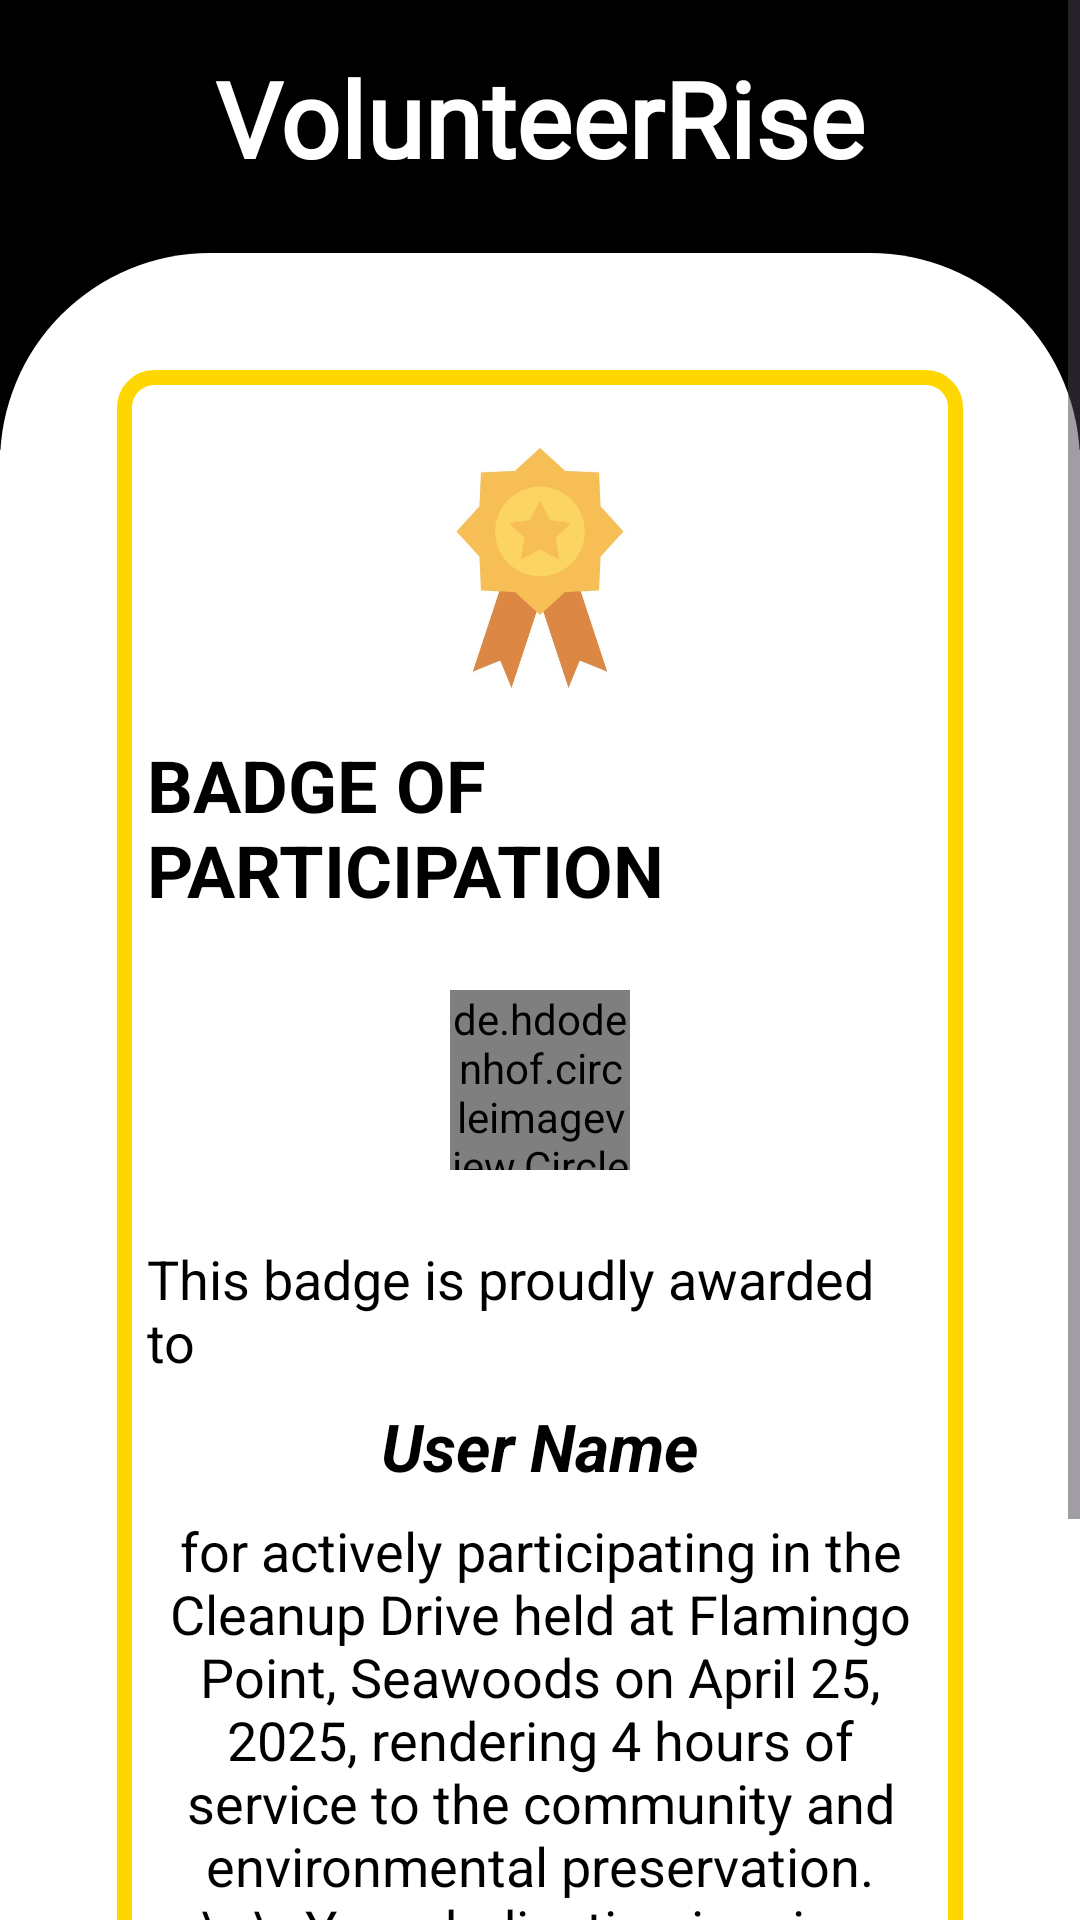

Icon bounding boxes for this 1080w x 1920h phone screenshot, format (x1, y1, x2, y2):
Medal Image: (456, 448, 624, 688)
